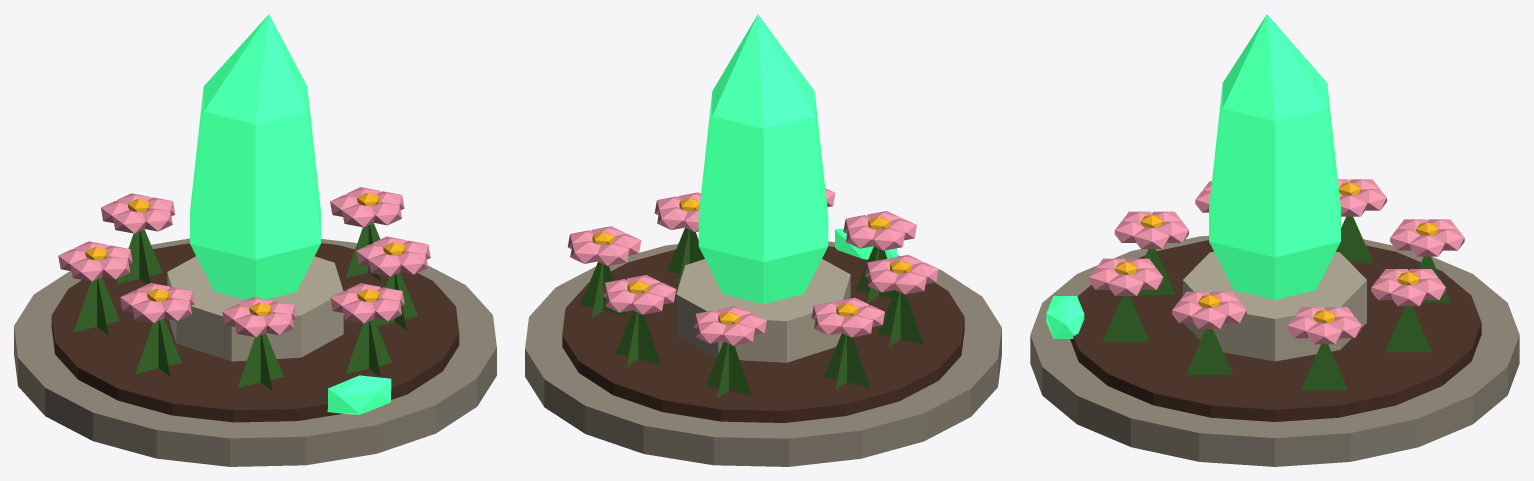
File: topic_plot_strong.glb
3 views of the same model, side by side, from view 1: azimuth 30°, elevation 25°; view 2: azimuth 150°, elevation 25°; view 3: azimuth 270°, elevation 25° (orthographic). The views are drawn at different scales.
Visible parts, largest first — view 1: topic_plot_strong; view 2: topic_plot_strong; view 3: topic_plot_strong.
Part boxes in pixels (x1=…): topic_plot_strong: x1=14, y1=14, x2=496, y2=466; topic_plot_strong: x1=525, y1=14, x2=1001, y2=466; topic_plot_strong: x1=1030, y1=14, x2=1519, y2=466.
Bounding box in the file's own units: 1.54 × 1.23 × 1.54.
